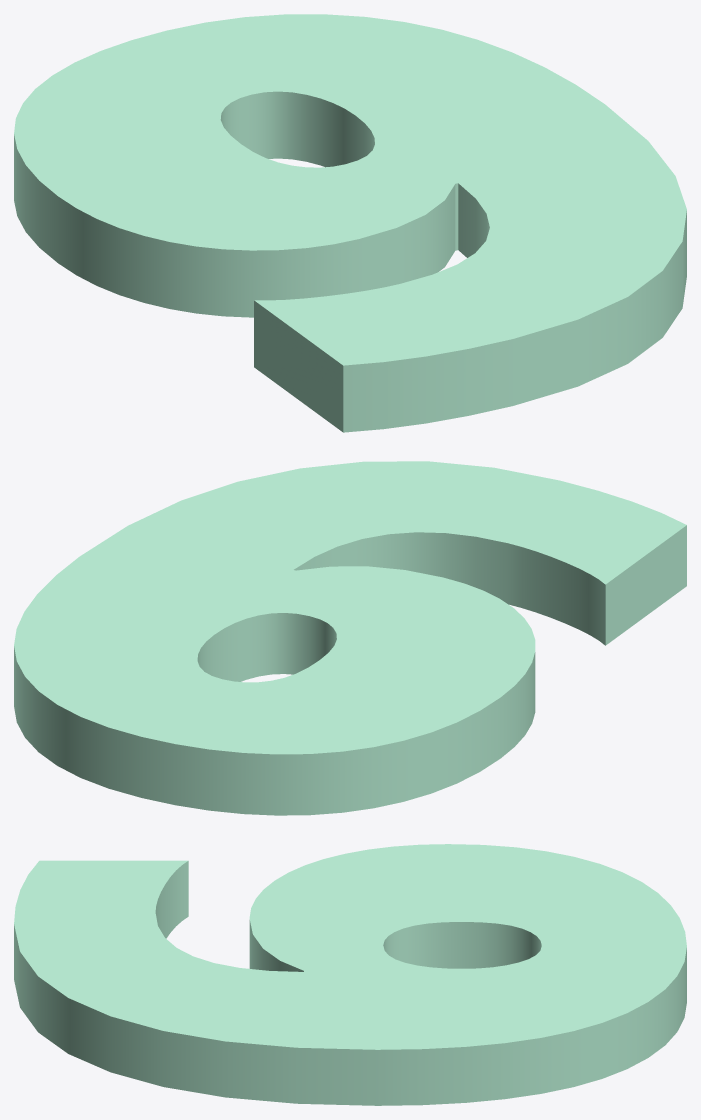
The model's file is NumberModel_9.gltf.
3 views of the same model, one above another, from view 1: azimuth 30°, elevation 25°; view 2: azimuth 150°, elevation 25°; view 3: azimuth 270°, elevation 25° (orthographic). The views are drawn at different scales.
Parts seen in each view (by area): view 1: NumberModel_9; view 2: NumberModel_9; view 3: NumberModel_9.
Boxes of the visible parts, left/top/right/bottom form: NumberModel_9: left=14, top=14, right=686, bottom=432; NumberModel_9: left=14, top=461, right=686, bottom=815; NumberModel_9: left=14, top=844, right=686, bottom=1105.
Bounding box in the file's own units: 0.602 × 0.0764 × 0.8321.
